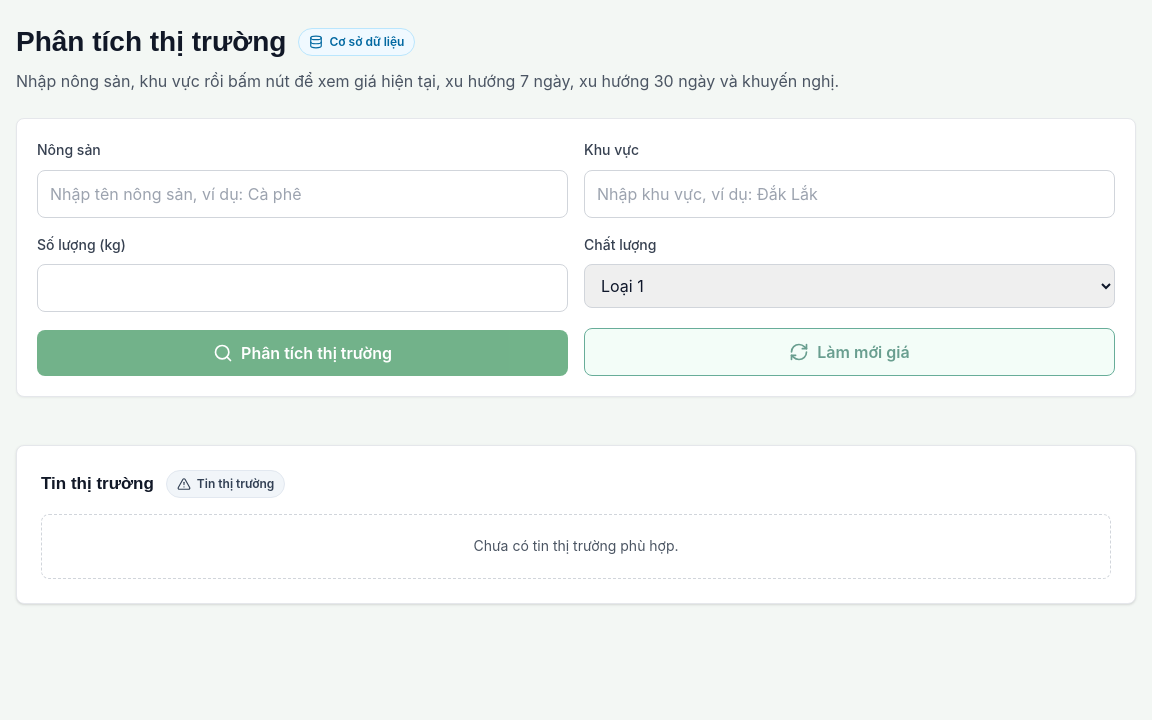
Scenario: market analysis real-data contract › does not report zero confidence when the analysis carried none
The width and height of the screenshot is (1152, 720).
Step 1. Type "Cà phê" into the field labelled "Nông sản" → (302, 194), box [37, 170, 568, 218]
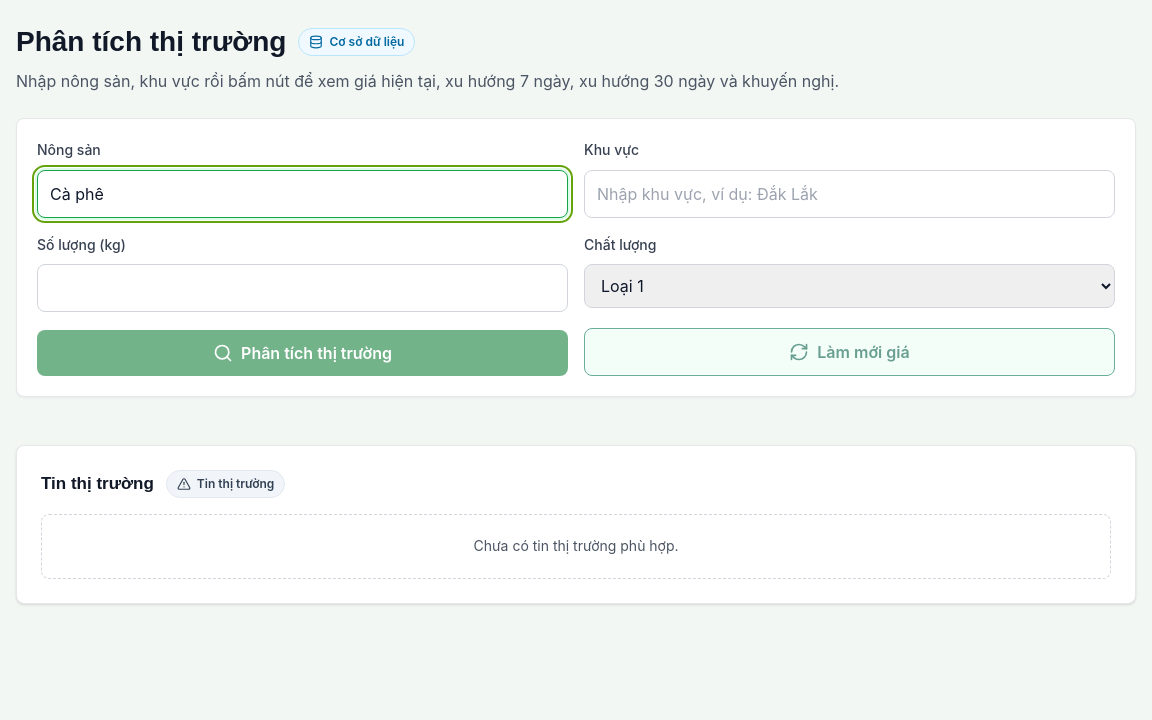
Step 2. Type "Đắk Lắk" into the field labelled "Khu vực" → (850, 194), box [584, 170, 1115, 218]
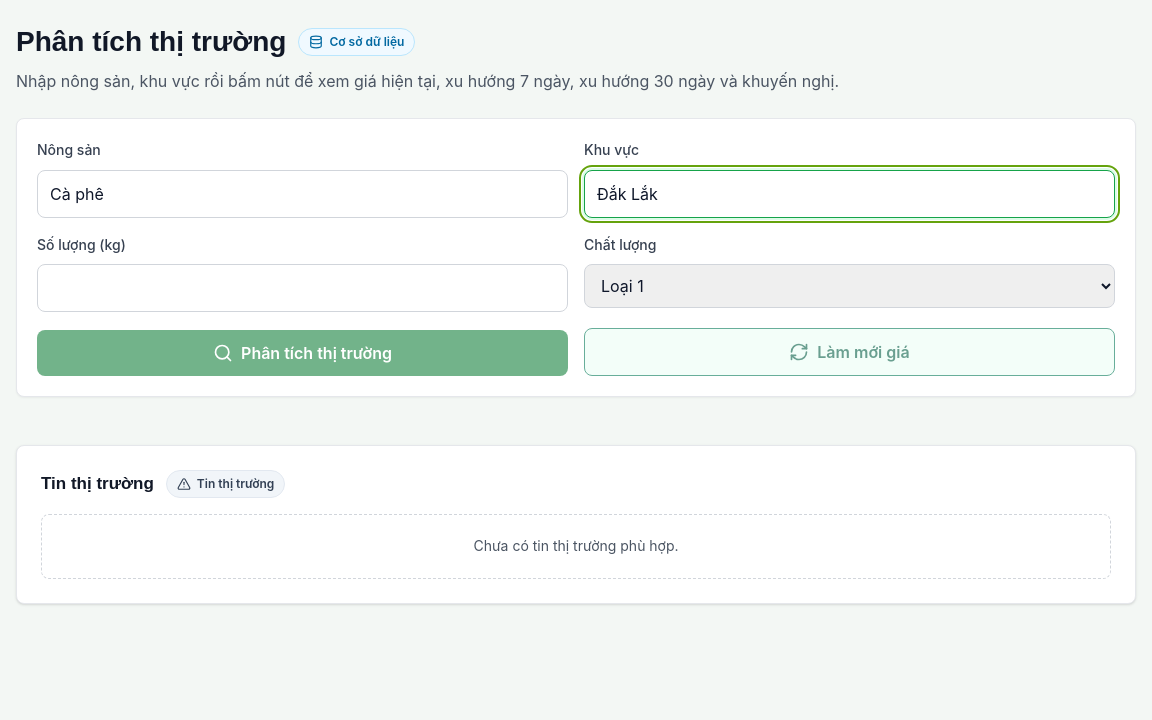
Step 3. Type "1000" into the number field labelled "Số lượng (kg)" → (302, 288), box [37, 264, 568, 312]
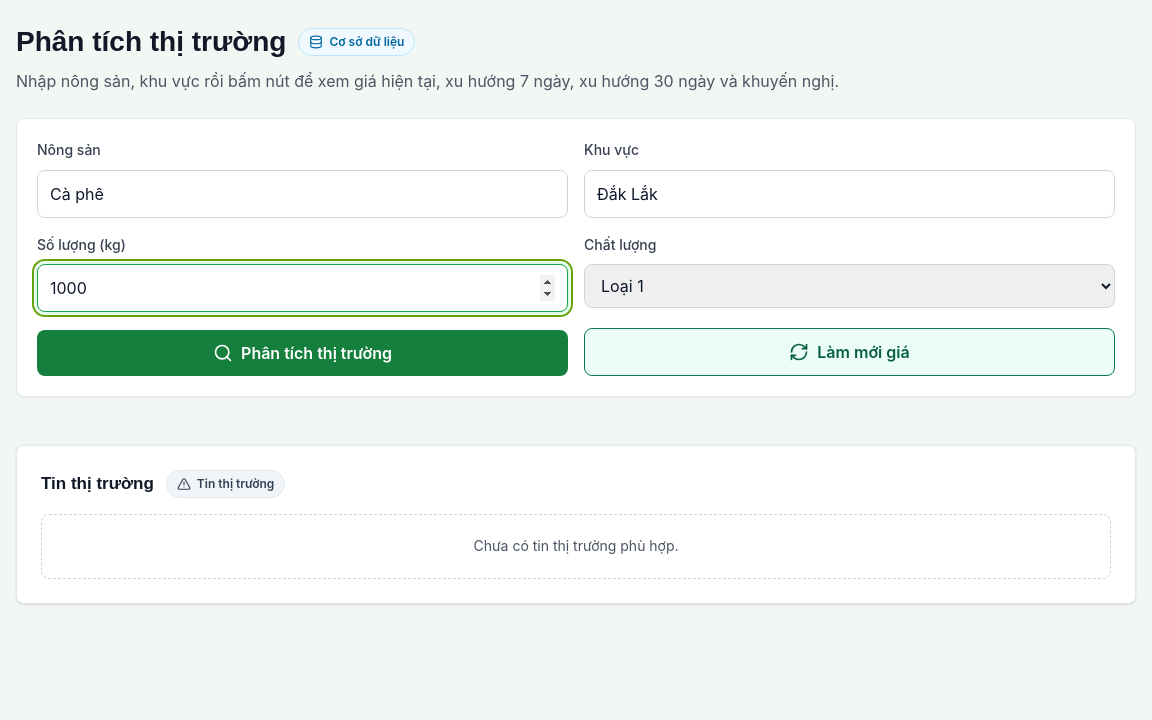
Step 4. Click the button "Phân tích thị trường" → (302, 353), box [37, 330, 568, 376]
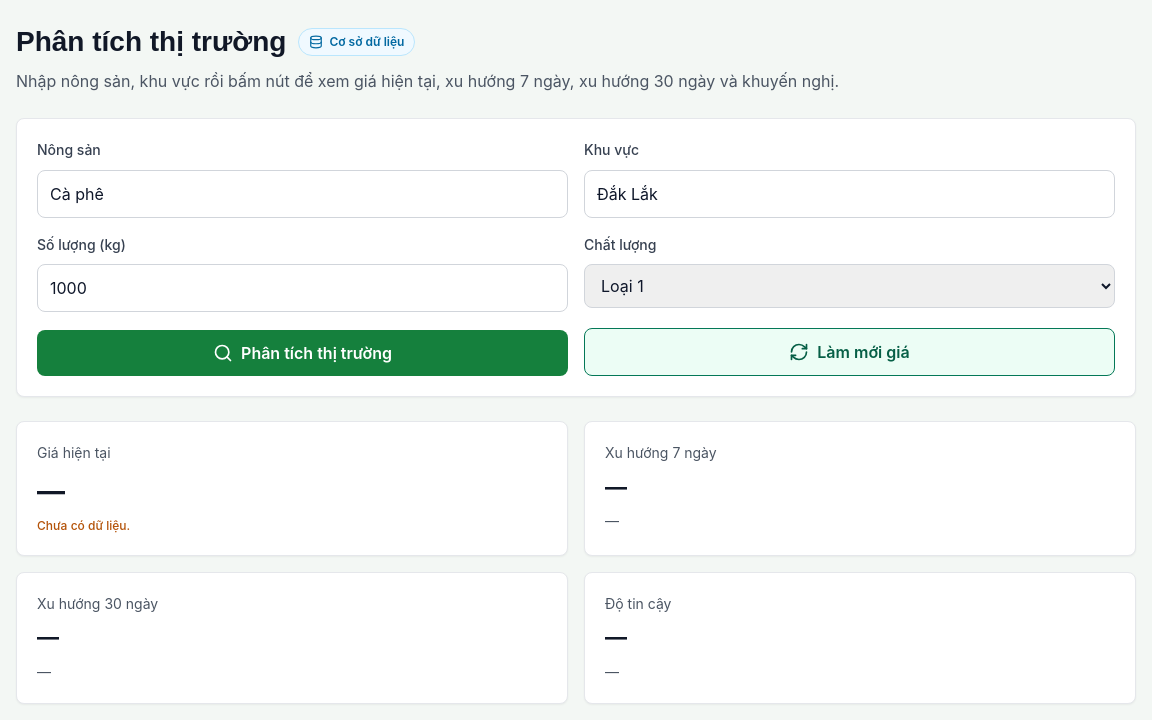
Expected: the text with test id "market-confidence" does not show "0%", [605, 624, 627, 650]
Now the text with test id "market-confidence" reads "—", box [605, 624, 627, 650]
